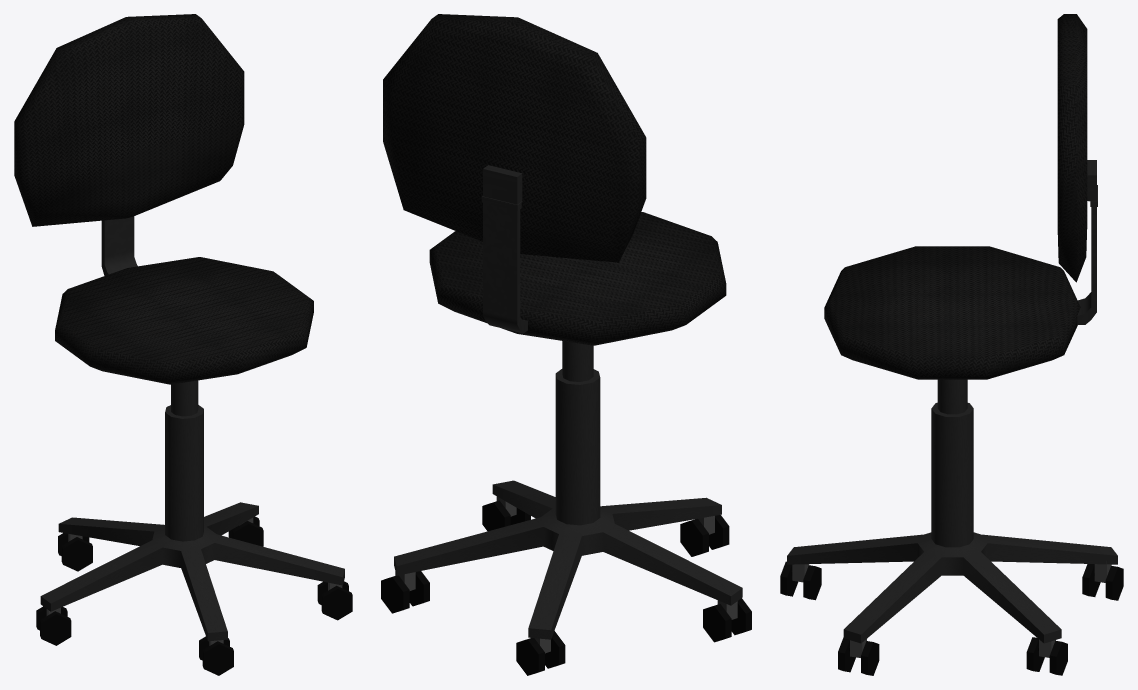
Rendered from Chair.fbx.
3 renders of one model, left to right at view 1: azimuth 30°, elevation 25°; view 2: azimuth 150°, elevation 25°; view 3: azimuth 270°, elevation 25°, orthographic. The views are drawn at different scales.
Parts seen in each view (by area): view 1: Chair; view 2: Chair; view 3: Chair.
Part boxes in pixels (bbox=[...]): Chair: bbox=[14, 14, 352, 675]; Chair: bbox=[381, 14, 751, 675]; Chair: bbox=[780, 14, 1123, 675].
Bounding box in the file's own units: 63.52 × 123 × 65.58.
